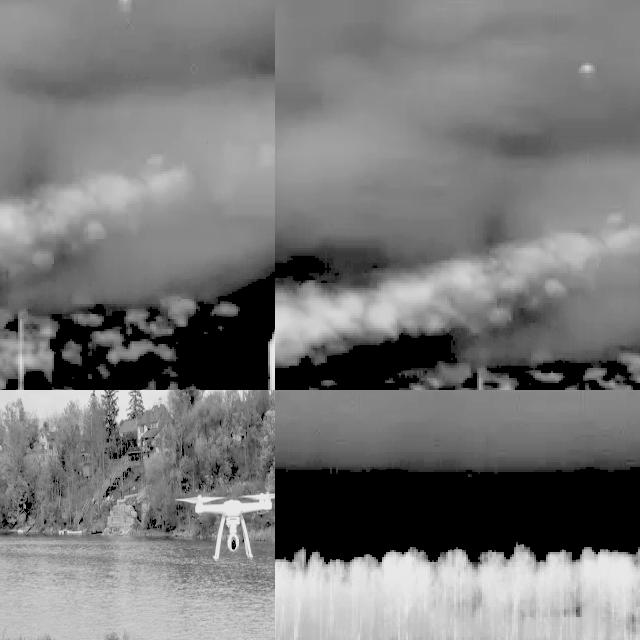0: (569, 50, 605, 86), (110, 0, 146, 21)
drone: (189, 489, 275, 561)
